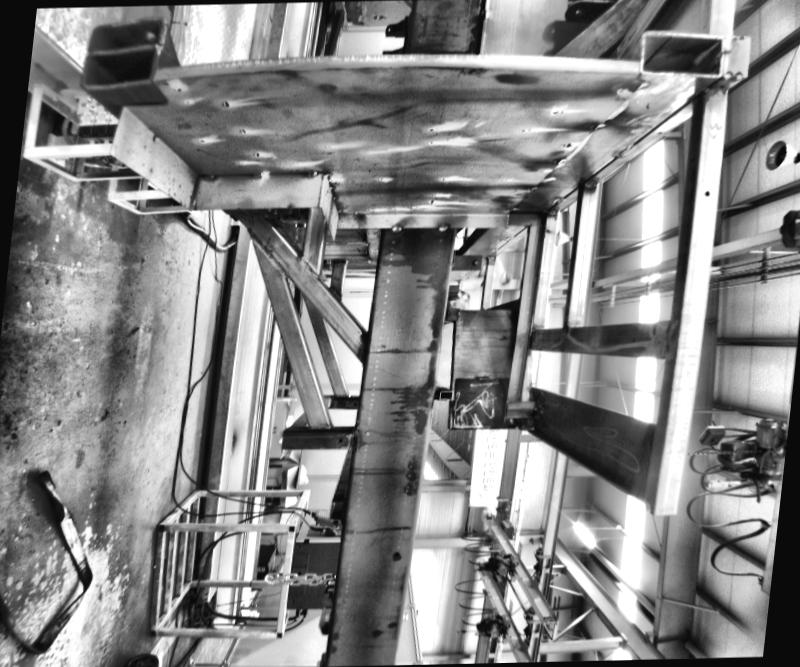hole: (703, 193, 711, 200), (392, 552, 400, 559), (630, 338, 636, 344), (337, 439, 341, 442)
welding: (243, 169, 269, 183), (199, 170, 219, 182), (434, 223, 452, 232), (390, 222, 402, 234), (299, 170, 318, 176)
